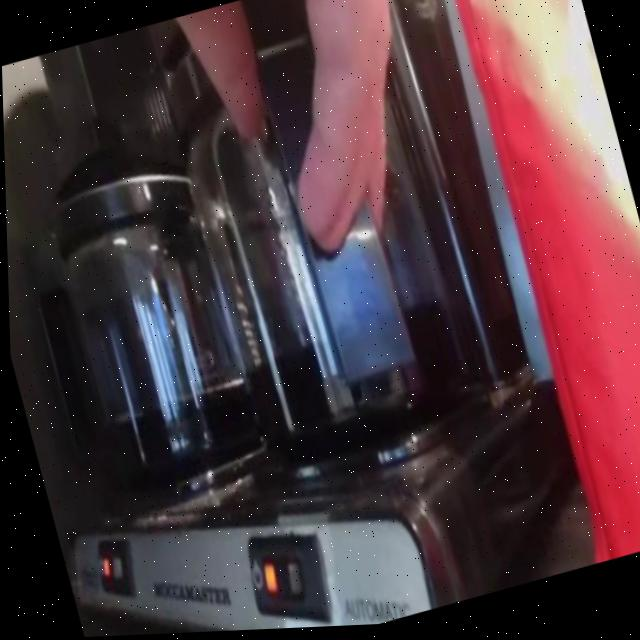coffee: (2, 88, 282, 534)
